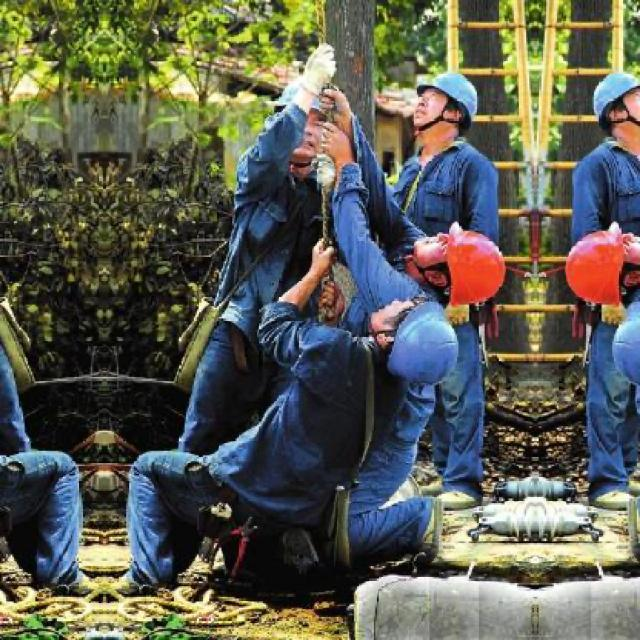helmet: (359, 297, 463, 385), (261, 68, 354, 163), (401, 228, 517, 303), (555, 226, 640, 303), (408, 68, 486, 140), (586, 66, 640, 140), (609, 296, 640, 384)
